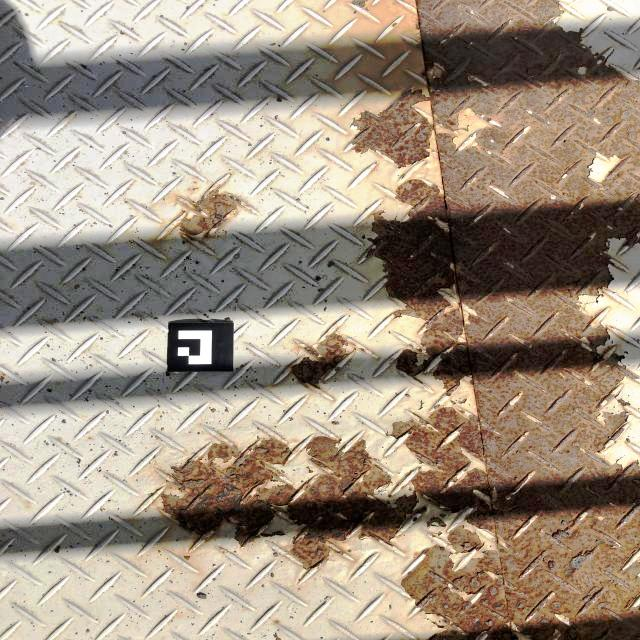Corrosion: (160, 0, 640, 640), (289, 327, 368, 391), (170, 184, 251, 241), (350, 0, 372, 10), (392, 22, 399, 28)
